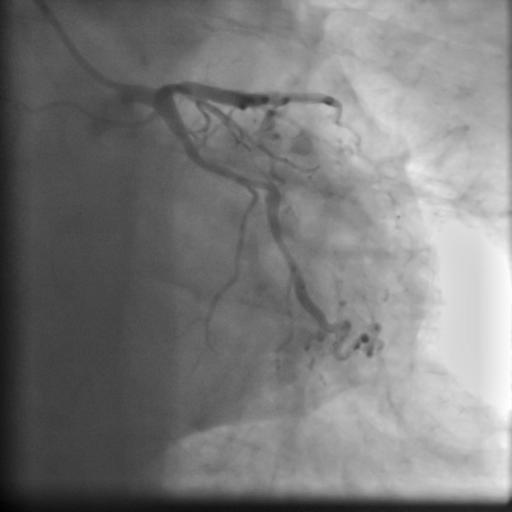Stenosis: (248, 174, 276, 196)
